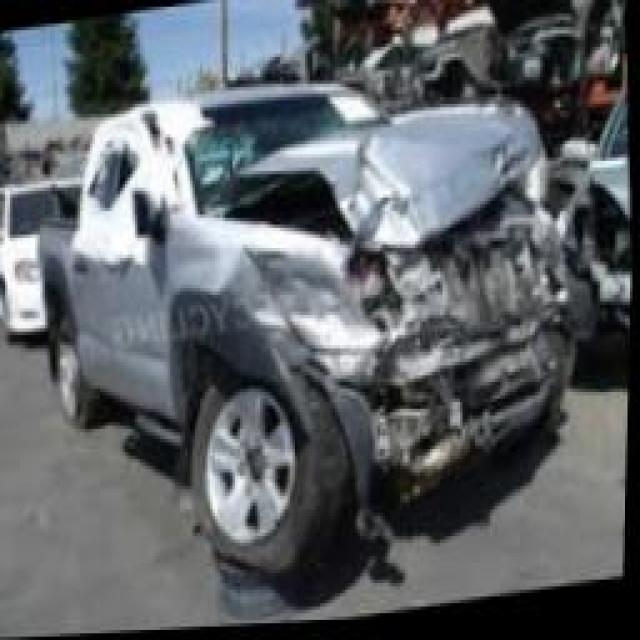Bonnet: (190, 107, 545, 253)
Bumper: (309, 319, 598, 511)
Fender: (169, 207, 356, 447)
